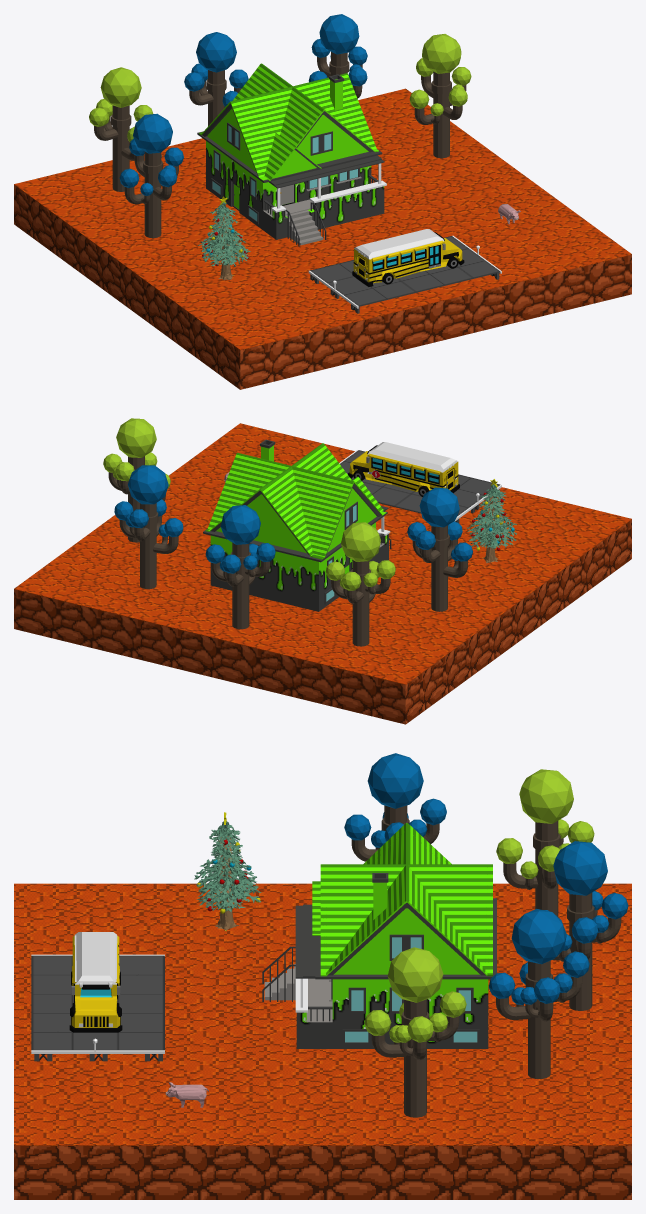
The picture shows the model from 3 angles, top to bottom: view 1: azimuth 30°, elevation 25°; view 2: azimuth 150°, elevation 25°; view 3: azimuth 270°, elevation 25°; orthographic projection. The views are drawn at different scales.
Parts seen in each view (by area): view 1: Cube.001, Cube.754, VEHICLES_SCHOOL_BUS, OBJRANDOM_CHRISTMAS_TREE; view 2: Cube.001, Cube.754, VEHICLES_SCHOOL_BUS, OBJRANDOM_CHRISTMAS_TREE; view 3: Cube.001, Cube.754, VEHICLES_SCHOOL_BUS, OBJRANDOM_CHRISTMAS_TREE, ANIMAL_CERDO.
Part boxes in pixels (x1,y1,x2,y2): Cube.001: [14, 14, 631, 389]; Cube.754: [197, 63, 386, 246]; VEHICLES_SCHOOL_BUS: [352, 229, 464, 286]; OBJRANDOM_CHRISTMAS_TREE: [198, 196, 250, 280]; Cube.001: [14, 418, 631, 724]; Cube.754: [203, 439, 391, 611]; VEHICLES_SCHOOL_BUS: [348, 442, 459, 496]; OBJRANDOM_CHRISTMAS_TREE: [466, 479, 516, 563]; Cube.001: [14, 753, 631, 1199]; Cube.754: [262, 823, 496, 1048]; VEHICLES_SCHOOL_BUS: [69, 932, 122, 1032]; OBJRANDOM_CHRISTMAS_TREE: [194, 812, 261, 930]; ANIMAL_CERDO: [165, 1082, 208, 1107].
Bounding box in the file's own units: 4000 × 1664 × 4000.
42 materials, 5 textured.
